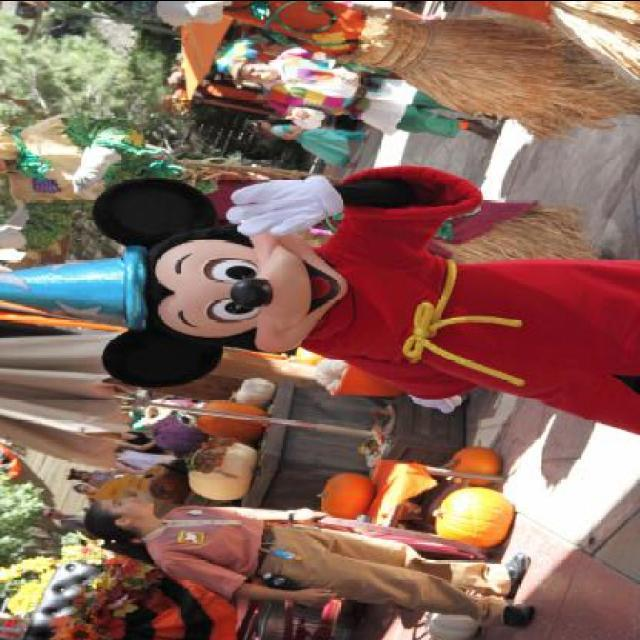Pumpkin: (432, 485, 514, 547), (189, 398, 269, 440), (428, 442, 502, 487), (314, 469, 378, 518)
